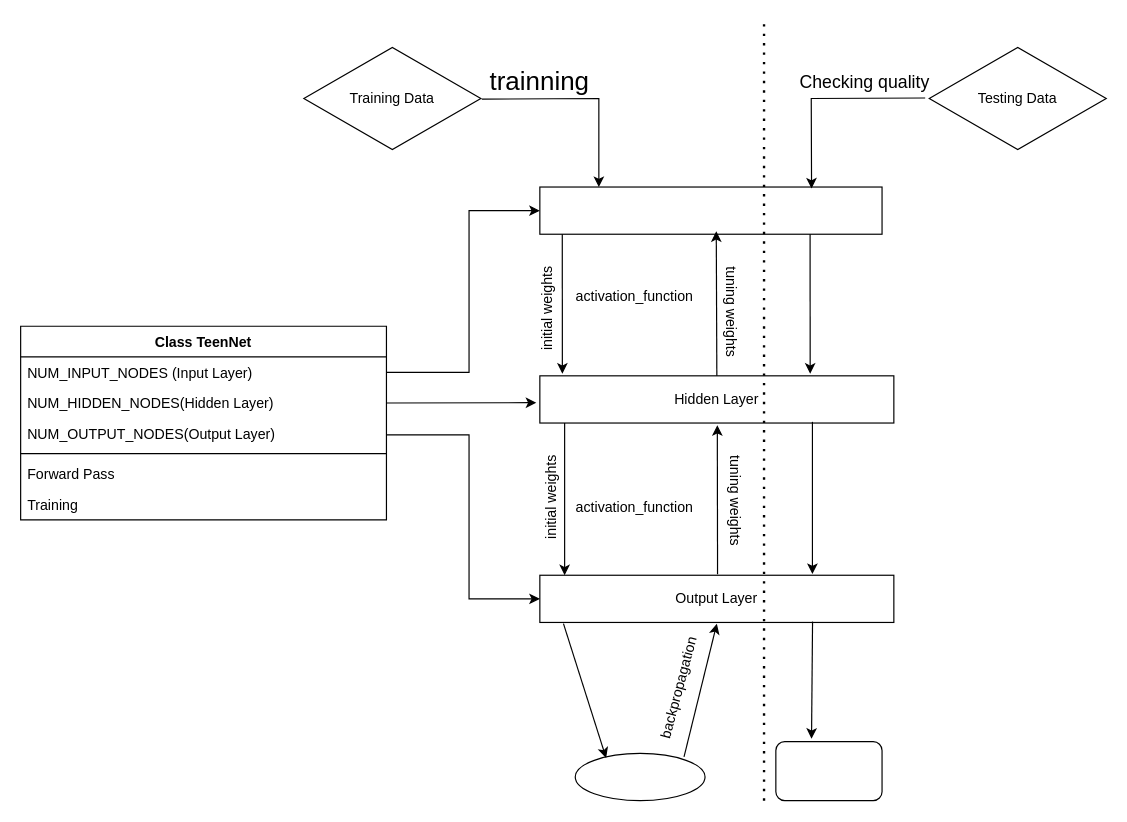
Image size: 1127x822. Some labels were removed from this diagram. The centre of each missing label's shape, as x and y in pixels:
"Input Layer" belongs at (710,210).
"output error" belongs at (639,776).
"result accuracy" belongs at (828,770).
